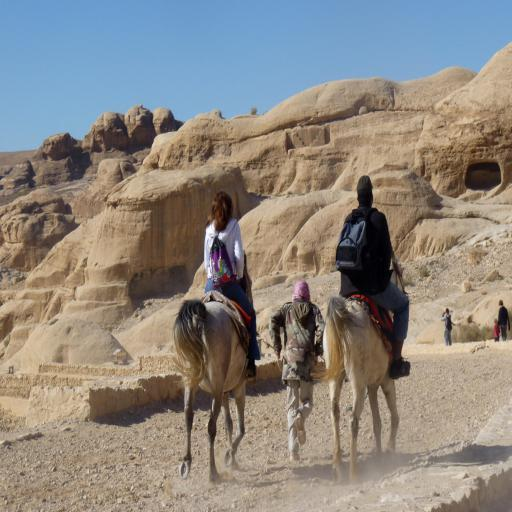horse: (311, 247, 405, 485), (167, 249, 255, 484)
